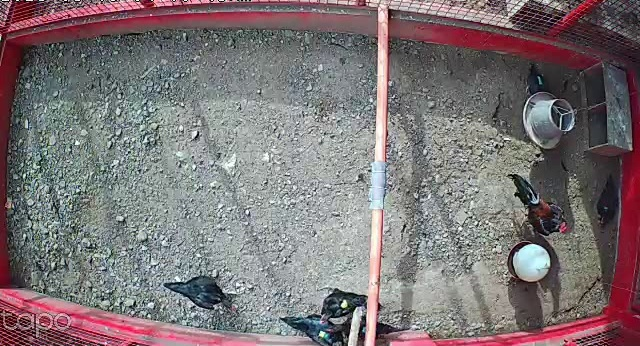Chicken: (162, 269, 236, 315), (311, 280, 385, 325), (329, 309, 406, 344), (276, 310, 347, 346), (597, 170, 624, 233), (524, 62, 554, 104)
Rooster: (505, 170, 571, 240)
Saddle_Color_Yellow: (339, 299, 348, 309)
Saddle_Color_YellowGreen: (319, 329, 329, 339)
